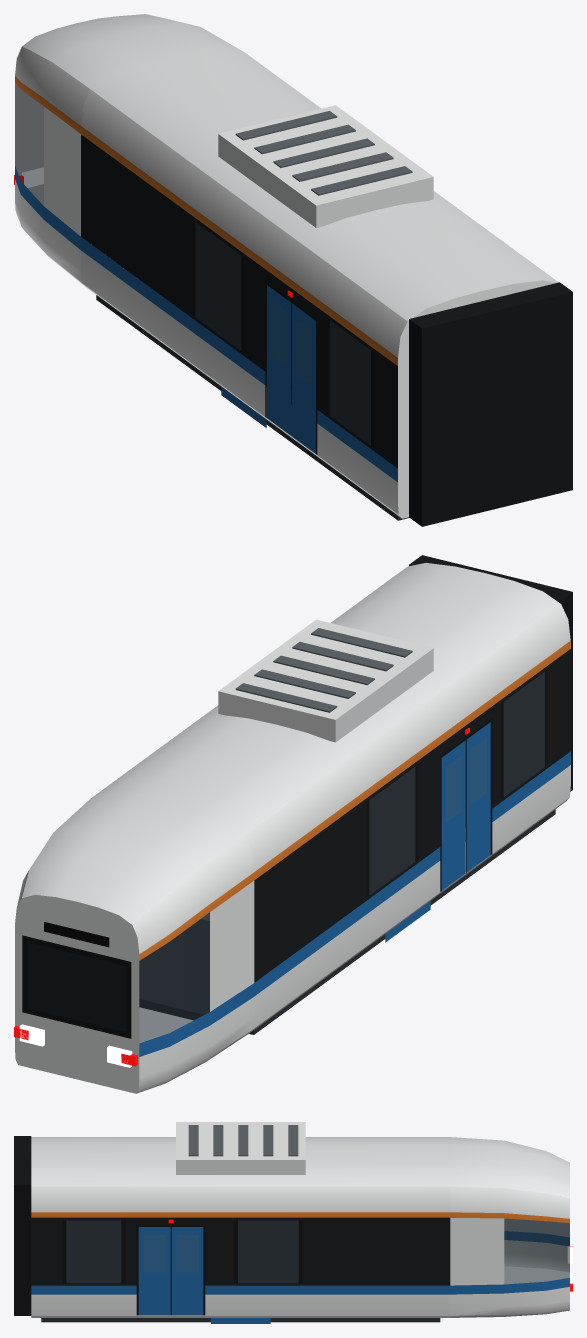
The model's file is danhai-lrt-lead.glb.
3 renders of one model, top to bottom at view 1: azimuth 30°, elevation 25°; view 2: azimuth 150°, elevation 25°; view 3: azimuth 270°, elevation 25°, orthographic. The views are drawn at different scales.
Parts seen in each view (by area): view 1: DanhaiLRT_Lead; view 2: DanhaiLRT_Lead, DestLED; view 3: DanhaiLRT_Lead.
Boxes of the visible parts, x1=… form: DanhaiLRT_Lead: x1=14, y1=14, x2=572, y2=526; DanhaiLRT_Lead: x1=14, y1=555, x2=572, y2=1093; DestLED: x1=44, y1=921, x2=109, y2=947; DanhaiLRT_Lead: x1=14, y1=1122, x2=572, y2=1323.
Size of the model in its own units: 2.73 by 3.6 by 11.21.
